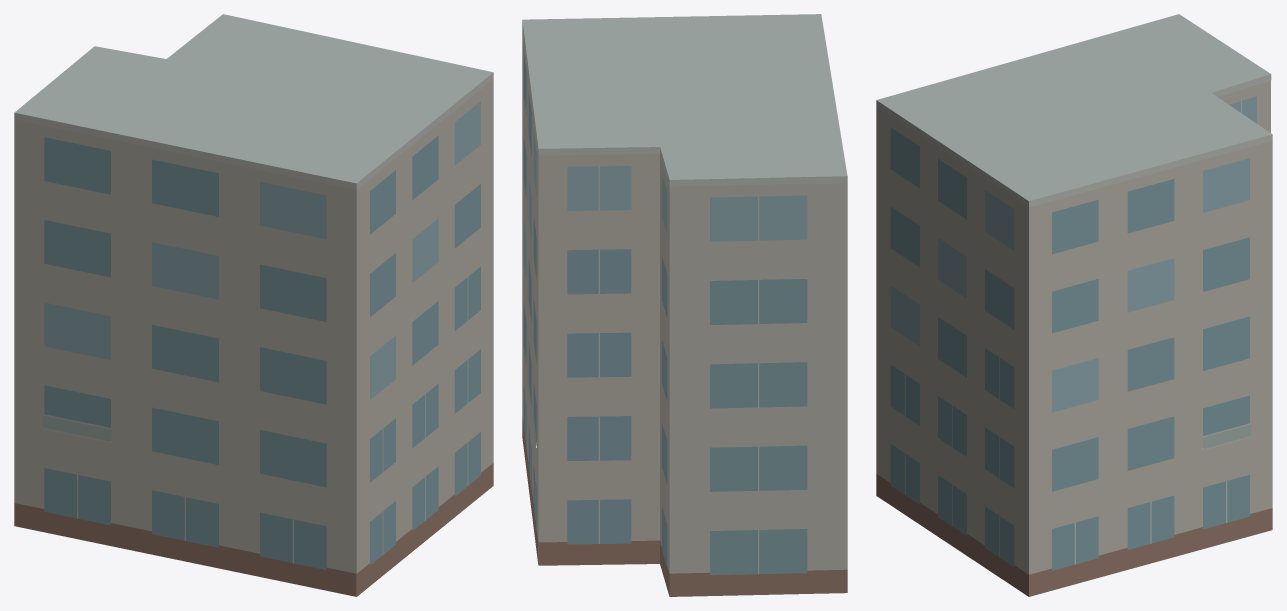
File: survey-upis-32948653.glb
3 views of the same model, side by side, from view 1: azimuth 30°, elevation 25°; view 2: azimuth 150°, elevation 25°; view 3: azimuth 270°, elevation 25° (orthographic). The views are drawn at different scales.
Visible parts, largest first — view 1: survey-upis-32948653.tmp; view 2: survey-upis-32948653.tmp; view 3: survey-upis-32948653.tmp.
Boxes of the visible parts, x1,y1,x2,y2 form: survey-upis-32948653.tmp: [14, 14, 493, 596]; survey-upis-32948653.tmp: [522, 14, 847, 596]; survey-upis-32948653.tmp: [876, 14, 1272, 596].
Size of the model in its own units: 15.43 by 15.2 by 13.81.
